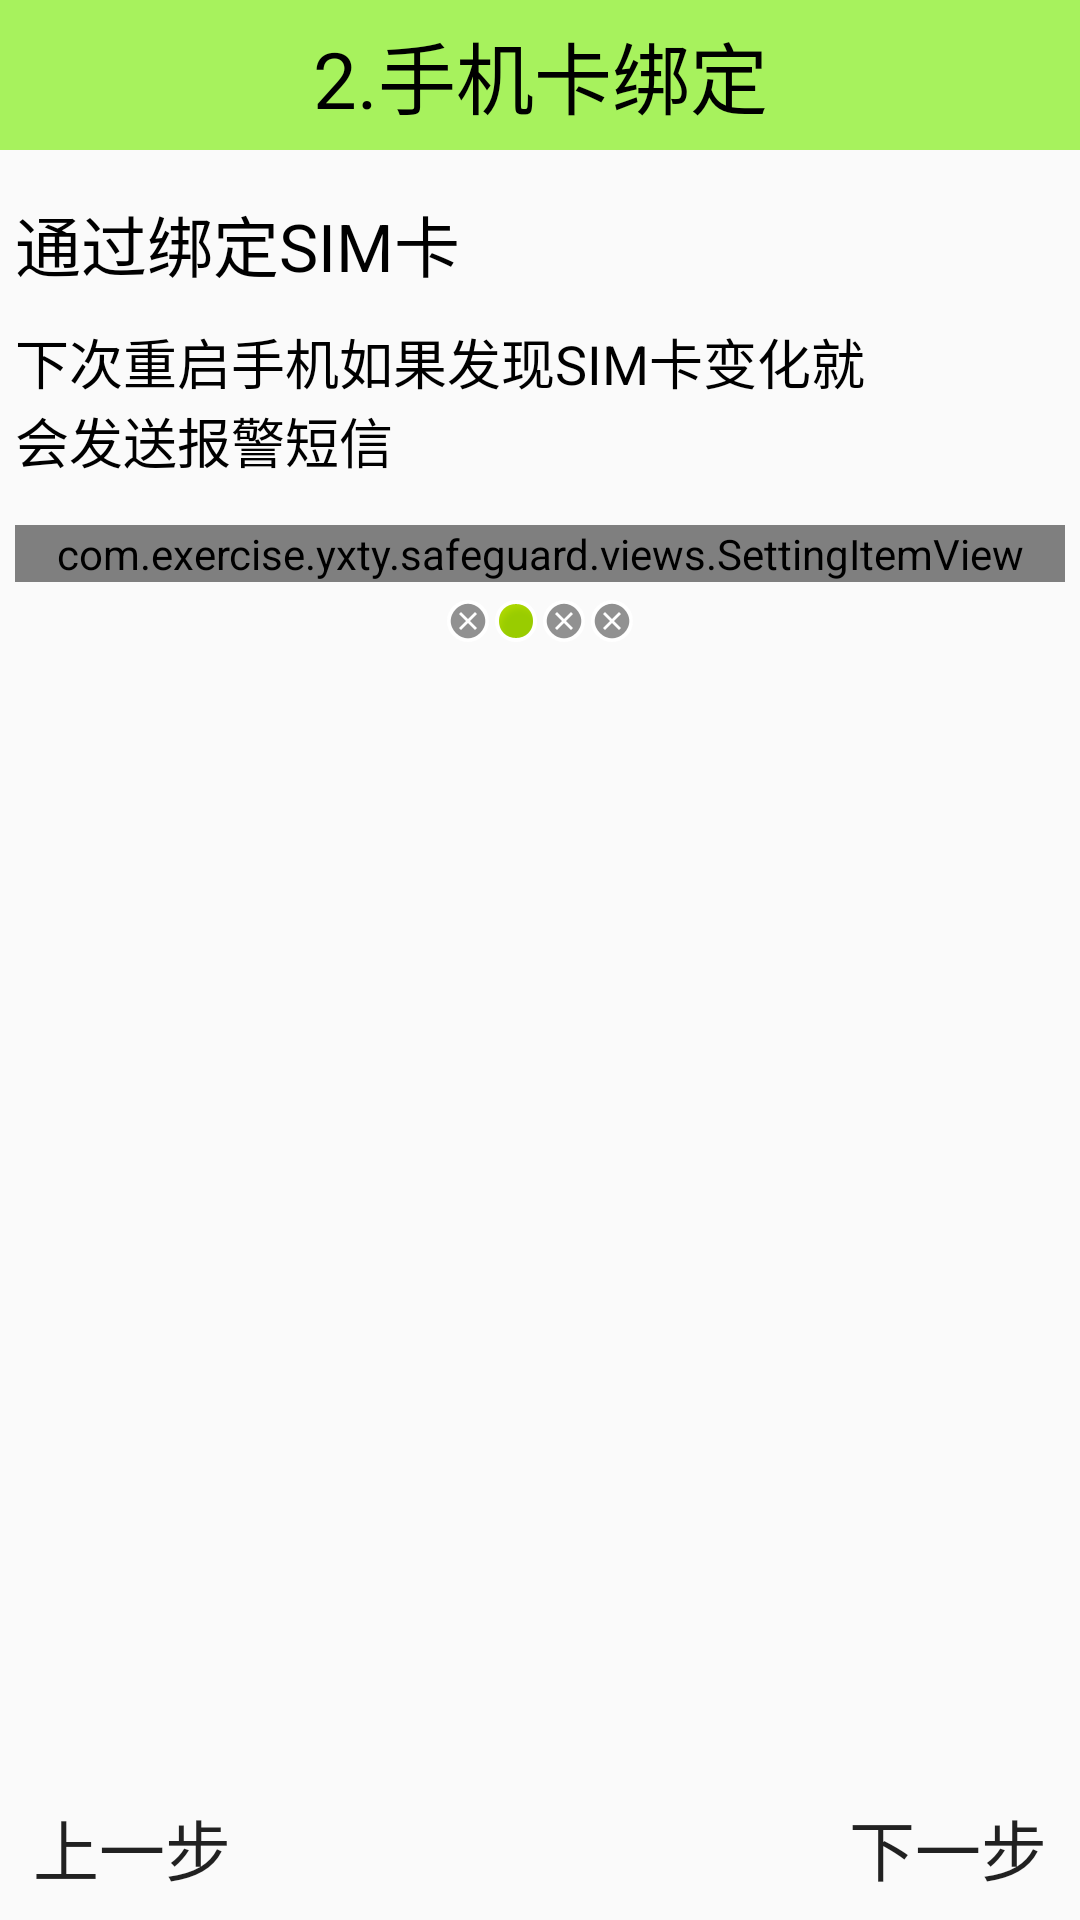

Point at icon controls on the screen. Image size 1080 × 1920, points as point (x, y).
presence offline: point (468, 621), point (564, 621), point (612, 621)
presence online: point (516, 621)
